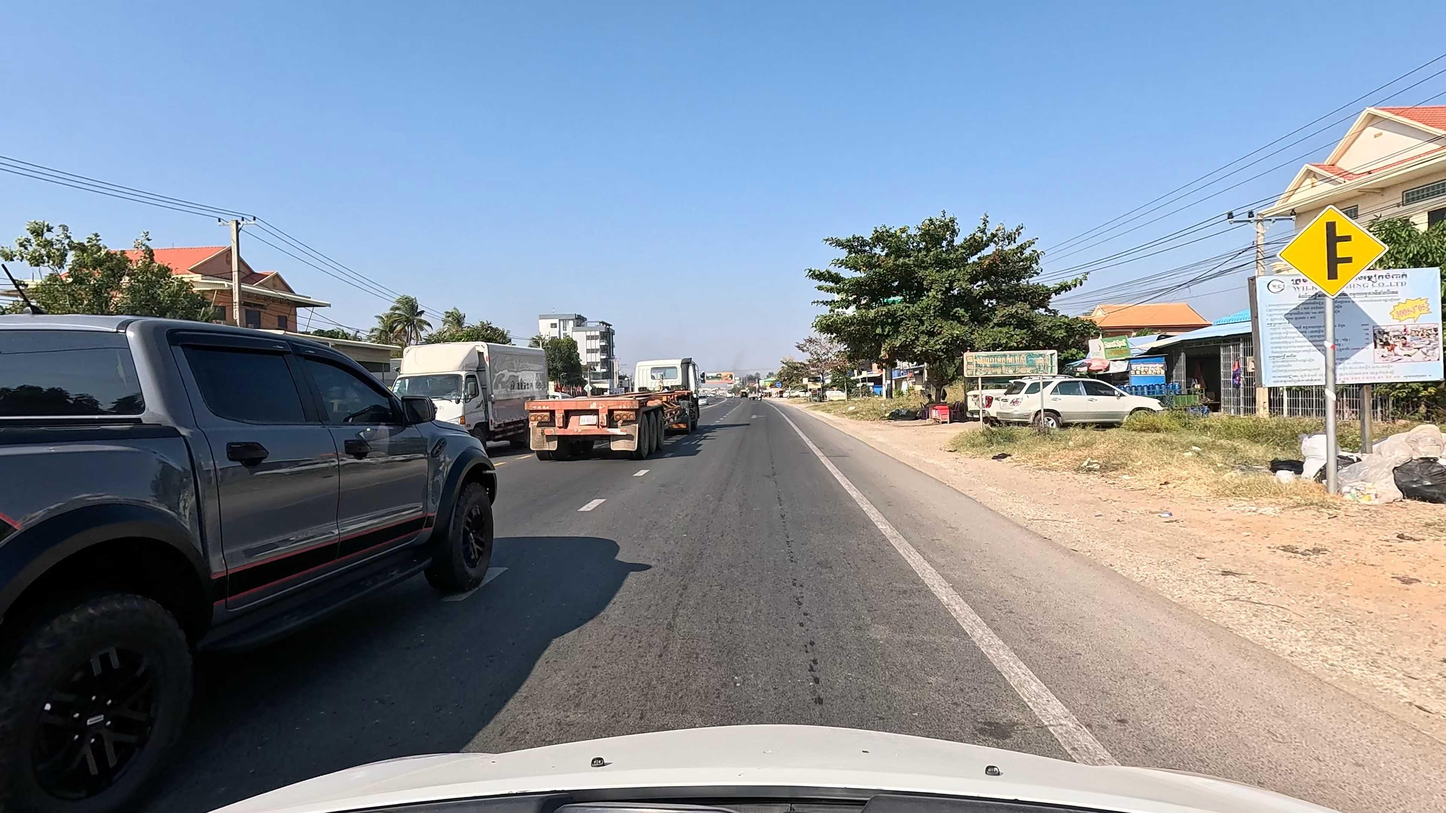side_road_junctions_right: (1269, 202, 1390, 301)
